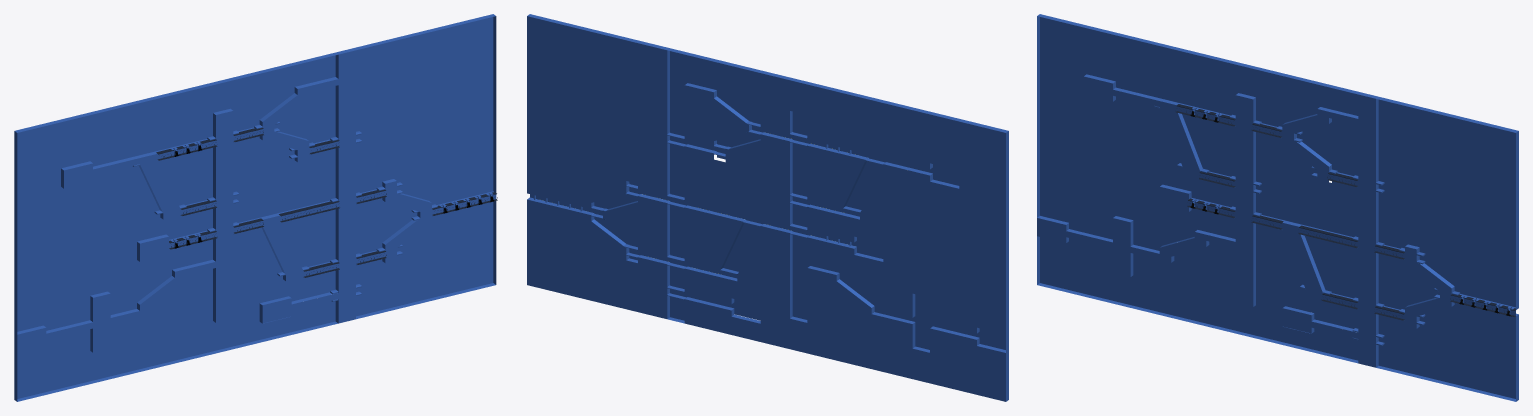
File: Stage02ObjectSet_B_v1.1.fbx
3 views of the same model, side by side, from view 1: azimuth 30°, elevation 25°; view 2: azimuth 150°, elevation 25°; view 3: azimuth 330°, elevation 25° (orthographic).
Visible parts, largest first — view 1: BackGroundB, BackGroundA, OutWall; view 2: BackGroundB, BackGroundA, OutWall; view 3: BackGroundB, BackGroundA, OutWall.
Part boxes in pixels (<box>): BackGroundB: <box>17,17,493,398</box>; BackGroundA: <box>17,50,496,352</box>; OutWall: <box>14,14,496,401</box>; BackGroundB: <box>527,16,1005,401</box>; BackGroundA: <box>530,51,1005,349</box>; OutWall: <box>527,14,1008,401</box>; BackGroundB: <box>1040,17,1515,398</box>; BackGroundA: <box>1037,76,1515,367</box>; OutWall: <box>1037,14,1518,401</box>.
Size of the model in its own units: 22598 by 12126 by 446.
